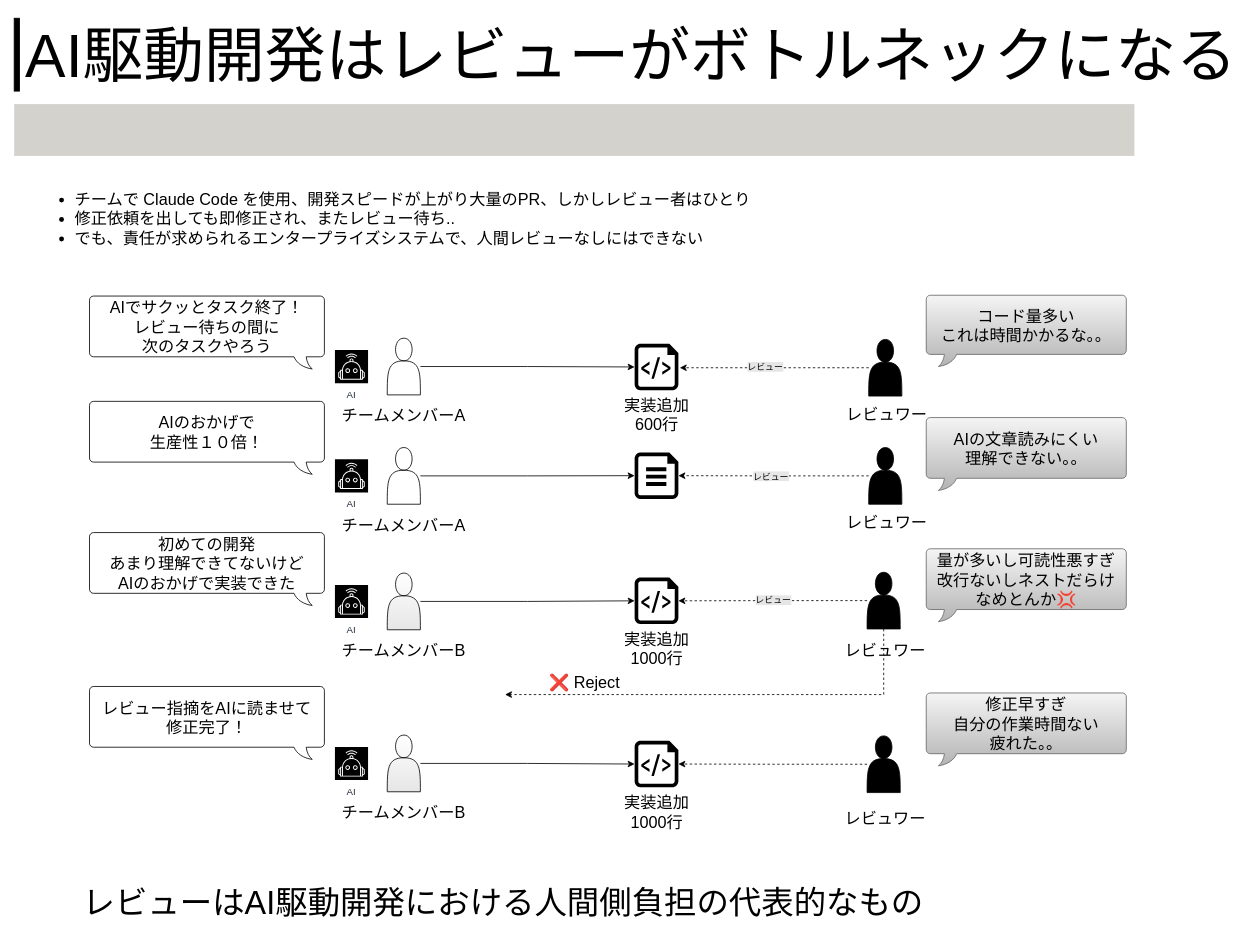
Some shapes in this 1256 by 944 pixel diagram are drawn without their labels. Each missing label, with the box of its shape:
実案件での経験、AI駆動開発はレビュー者負担が大きく、ボトルネックに: (14, 104, 1134, 156)
設計書追加: (634, 452, 678, 499)
